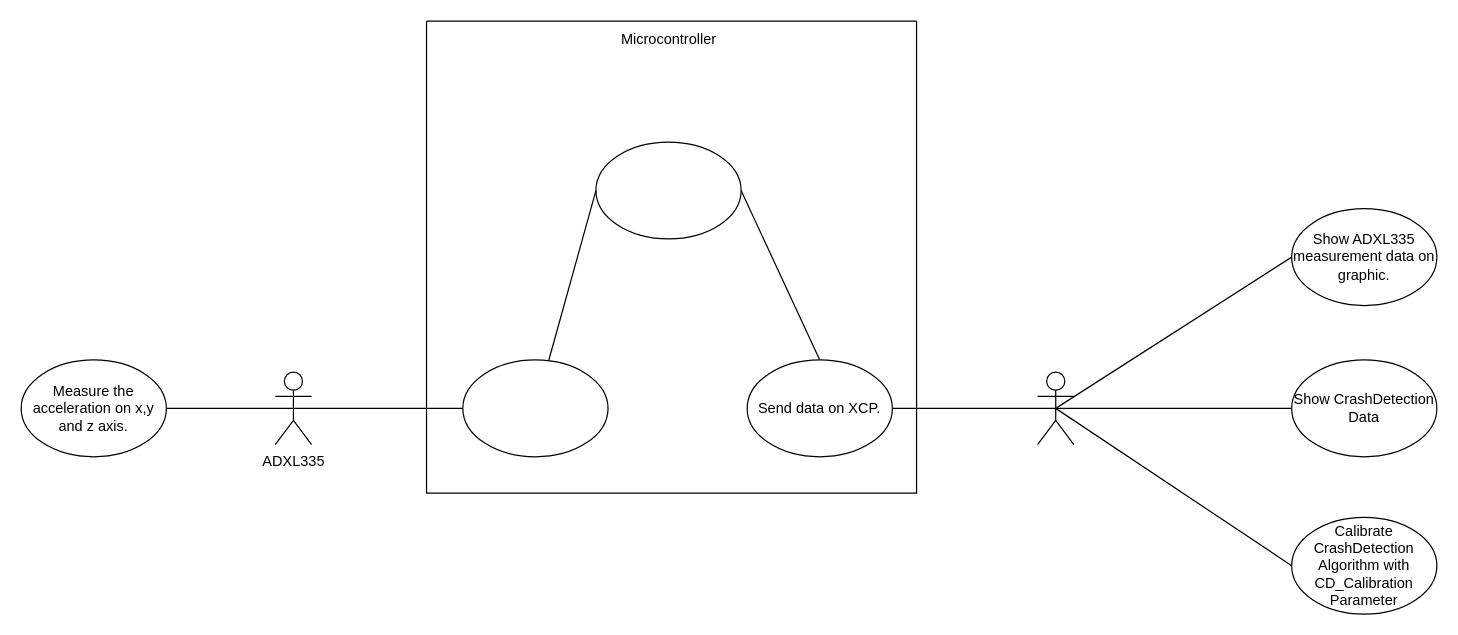
The diagram is 1458 pixels wide and 635 high, and some of its shapes have lost their labels. Here are the shapes that lost their labels. From the top down, the centre of each, then its label:
At point (668, 190): "Compute carState, crashState and carFlipInfo".
At point (535, 408): "Get acceleration data.".
At point (1055, 408): "CANape".
